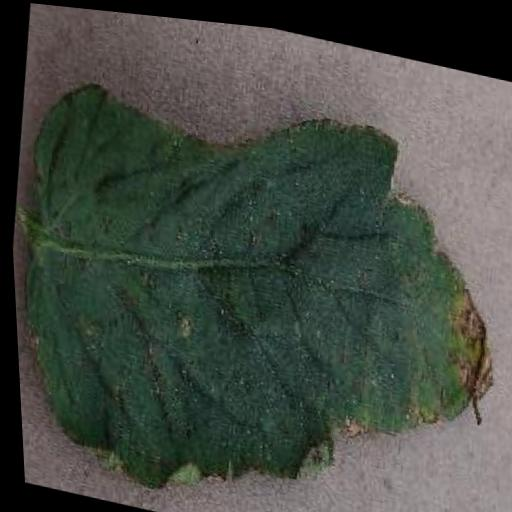Bacterial Spot: (2, 42, 512, 512)
